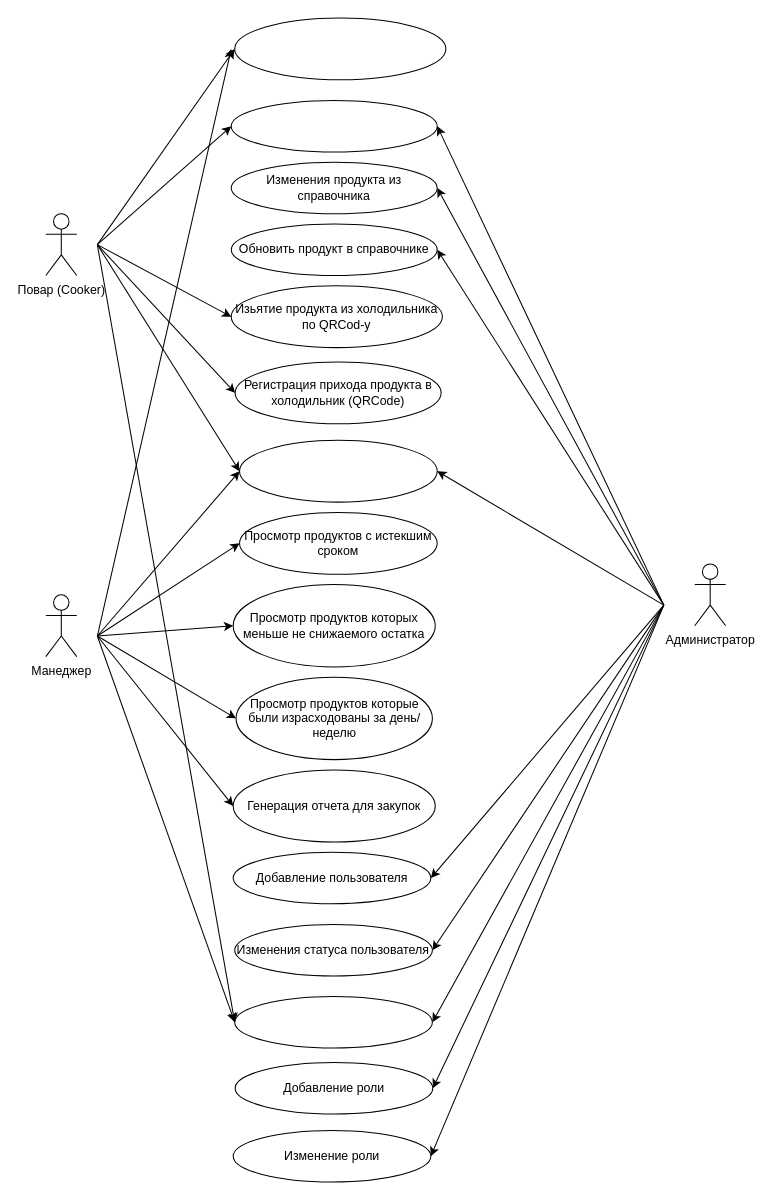
Some shapes in this 773 by 1200 pixel diagram are drawn without their labels. The shapes that lost their labels are listed below. From the top down, each one's box as (x1, y1, x2, y2) in pixels, then its label:
(234, 17, 446, 80): Изменение имени личных данных пользователя
(230, 99, 437, 152): Добавить продукт в справочник
(239, 439, 437, 502): Аунтентификация на портале
(234, 995, 432, 1048): Изменения пароля пользователя
